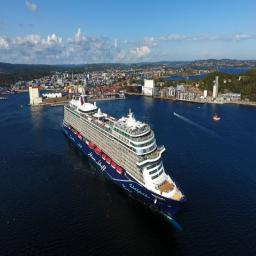cruises: (63, 92, 189, 223)
